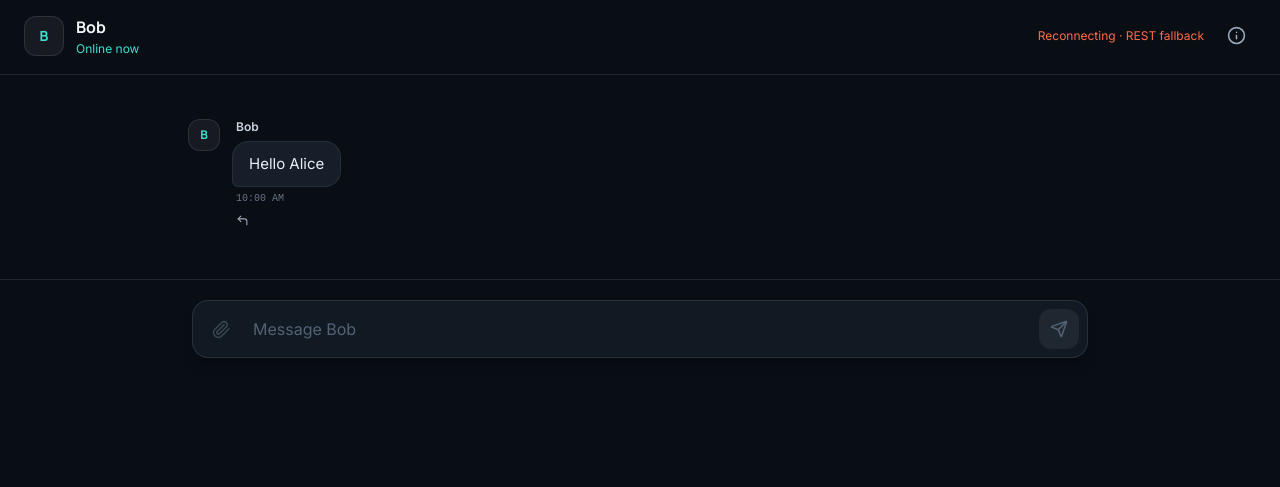
chat controls › replies using the REST fallback and reconciles the acknowledgement
Expected: the text "Hello Alice" is shown, [232, 141, 341, 187]
Click the button named "Reply to message" at (242, 220), box [232, 210, 253, 231]
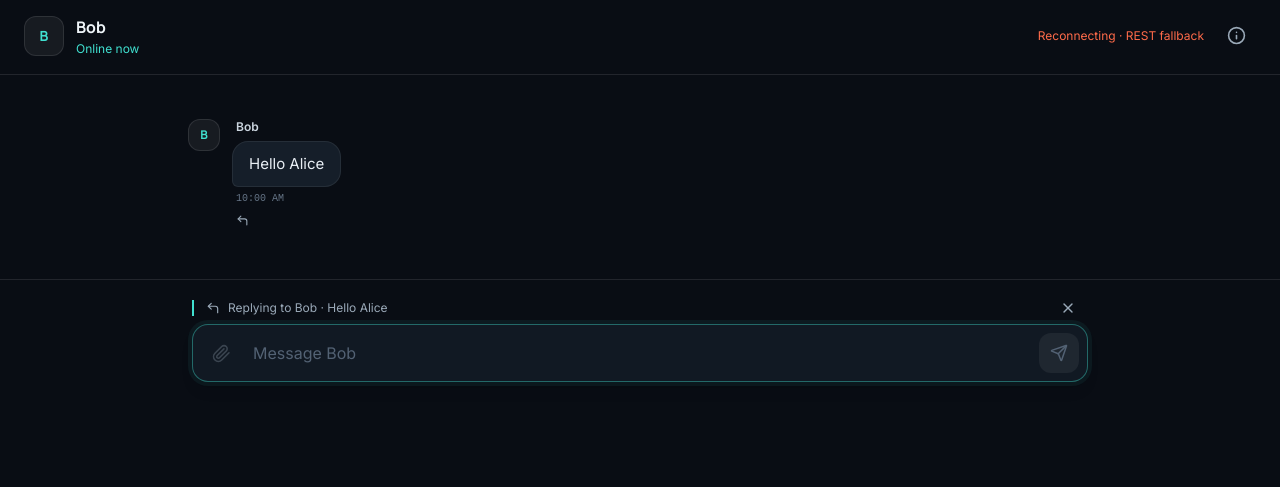
Type "Reply through REST" into the text box labelled "Message" at (640, 353), box [249, 333, 1031, 373]
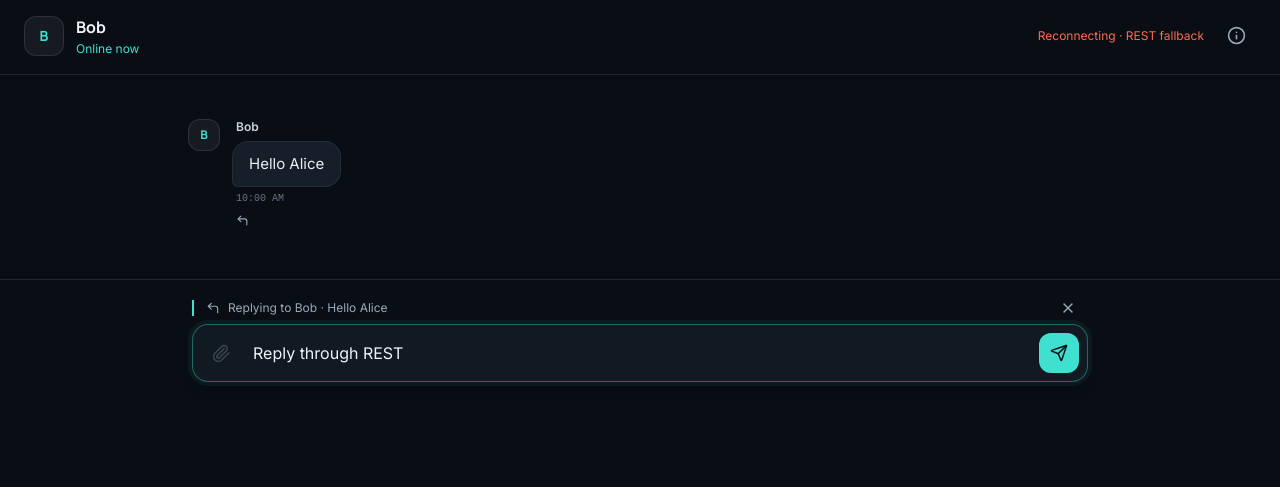
Click the button named "Send message" at (1059, 353), box [1039, 333, 1079, 373]
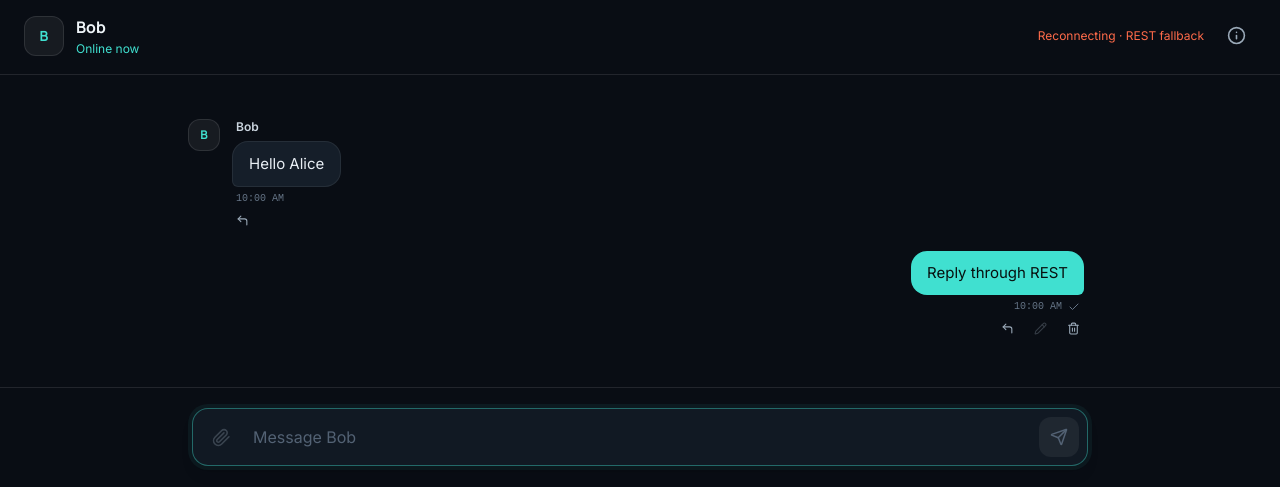
Result: the text "Reply through REST" is shown at [911, 251, 1084, 295]
